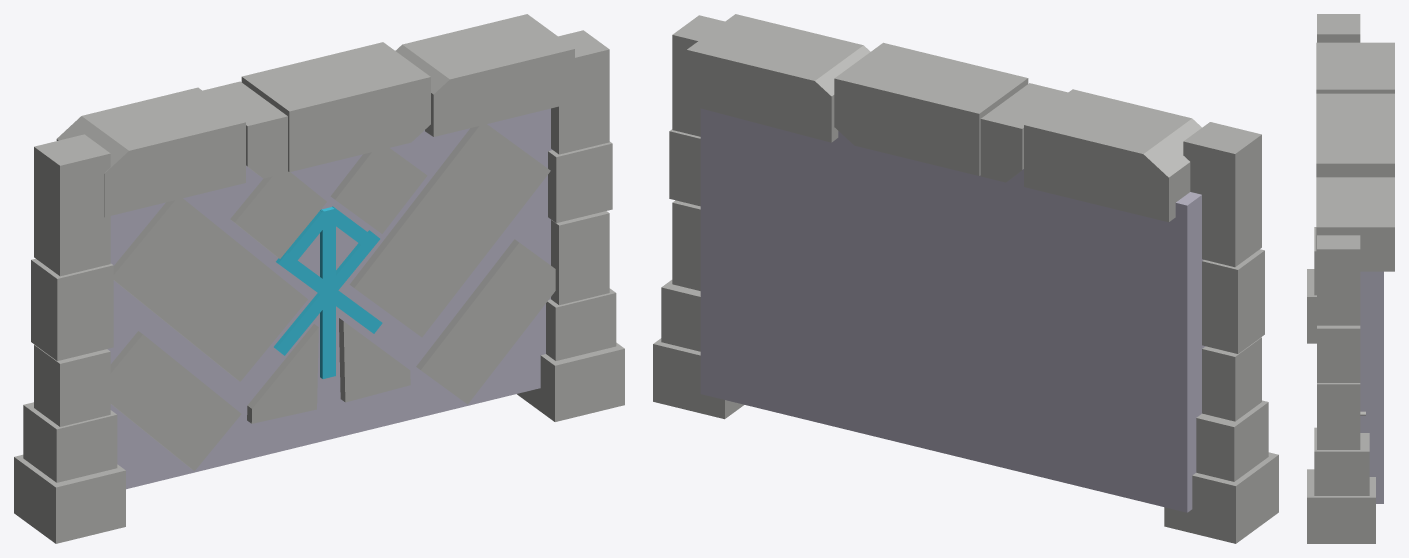
File: SM_Puerta_Ruinas_01.fbx
3 views of the same model, side by side, from view 1: azimuth 30°, elevation 25°; view 2: azimuth 150°, elevation 25°; view 3: azimuth 270°, elevation 25° (orthographic). The views are drawn at different scales.
Visible parts, largest first — view 1: Cube.1827, Plane.5610; view 2: Cube.1827; view 3: Cube.1827.
Boxes of the visible parts, left/top/right/bottom form: Cube.1827: left=14, top=14, right=624, bottom=543; Plane.5610: left=274, top=206, right=382, bottom=378; Cube.1827: left=653, top=14, right=1278, bottom=543; Cube.1827: left=1307, top=14, right=1394, bottom=543.
Size of the model in its own units: 430 by 268 by 69.86.
